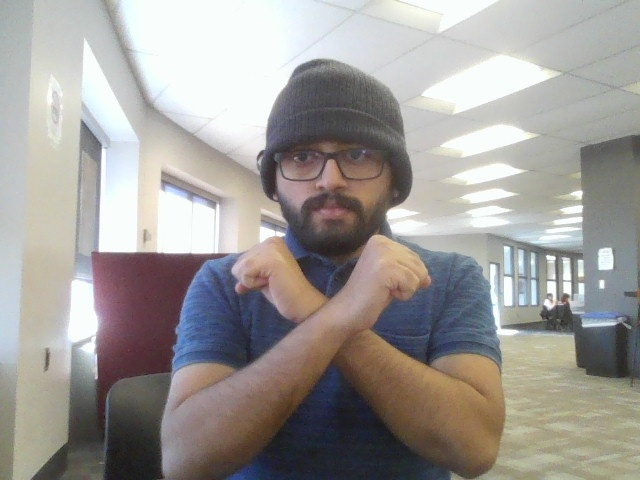start: (224, 222, 447, 397)
